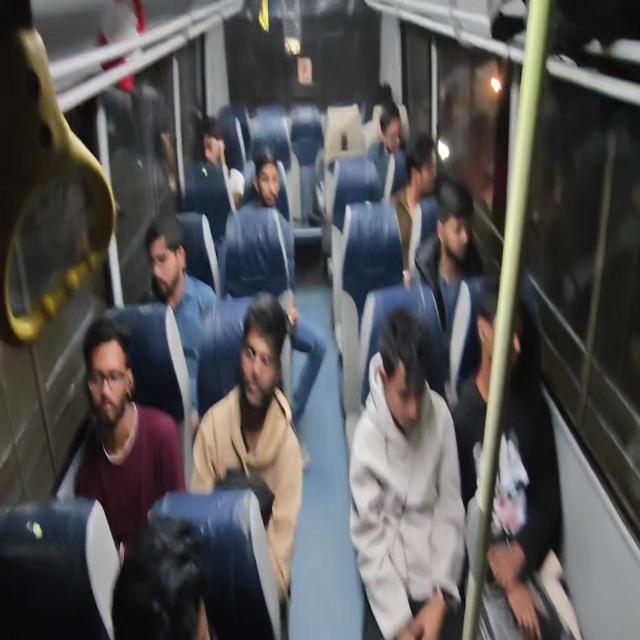person: (56, 90, 571, 638), (450, 281, 564, 638), (348, 307, 466, 638), (188, 294, 304, 606), (220, 148, 326, 426), (70, 315, 186, 562), (410, 178, 485, 396), (140, 212, 218, 418), (110, 515, 210, 639), (222, 146, 297, 308), (184, 111, 244, 245), (391, 132, 438, 281), (367, 102, 409, 196)
